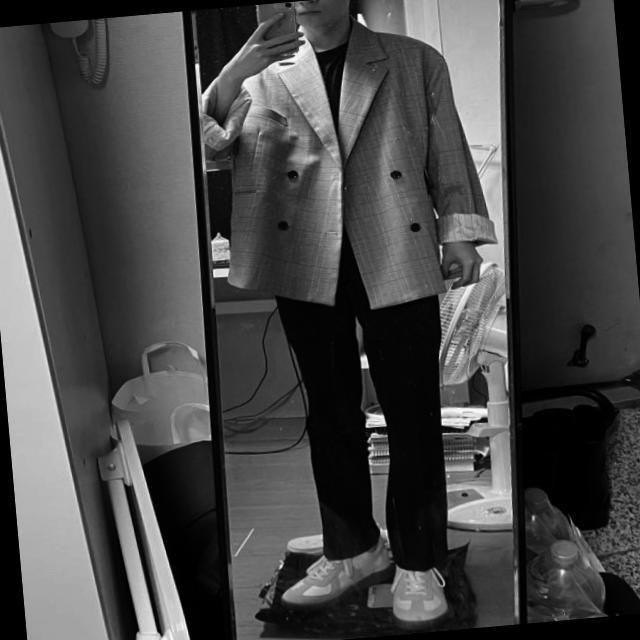blazer: (194, 4, 500, 321)
slacks: (273, 225, 466, 578)
